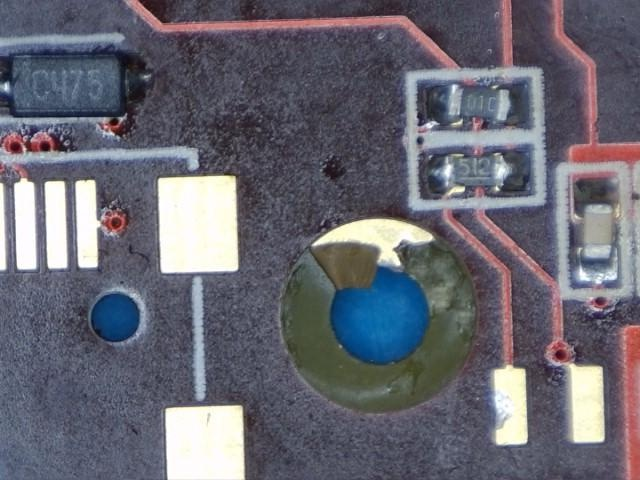pcb_defect: (282, 219, 478, 412)
